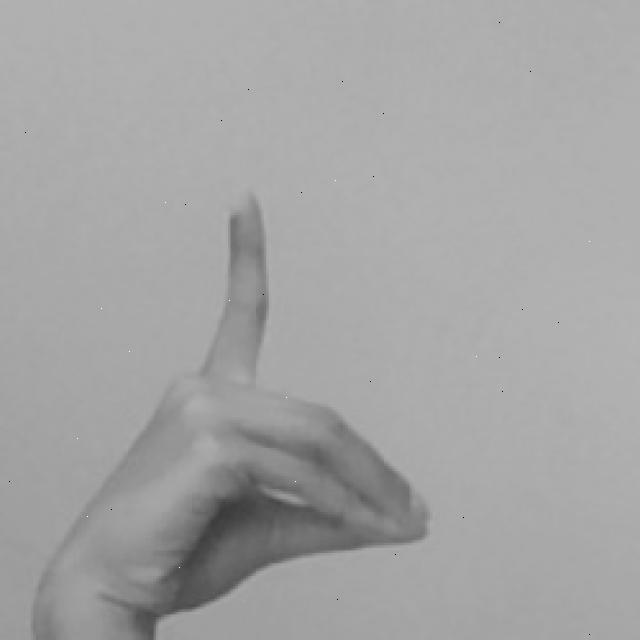D: (30, 184, 436, 640)
